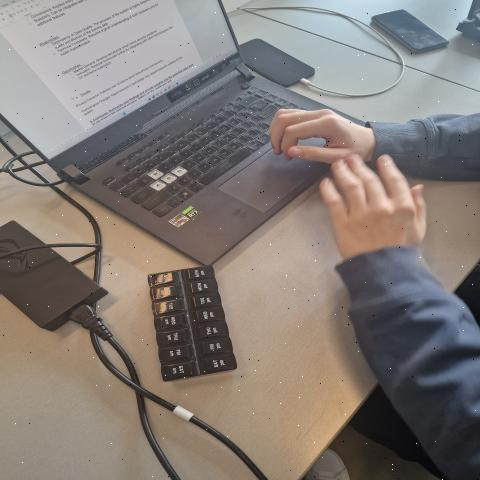Pill-box: (131, 259, 263, 388)
